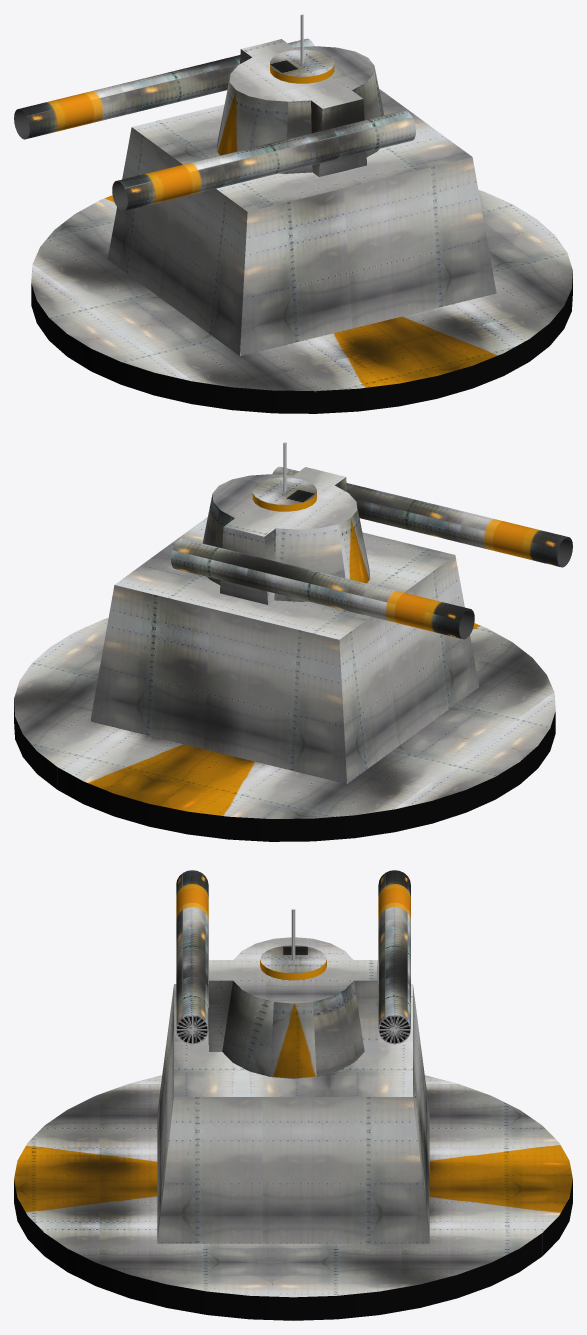
File: towerA_Orange.fbx
The picture shows the model from 3 angles, top to bottom: view 1: azimuth 30°, elevation 25°; view 2: azimuth 150°, elevation 25°; view 3: azimuth 270°, elevation 25°; orthographic projection. The views are drawn at different scales.
Visible parts, largest first — view 1: polySurface1; view 2: polySurface1; view 3: polySurface1.
Part boxes in pixels (x1,y1,x2,y2): polySurface1: [14, 14, 572, 413]; polySurface1: [14, 442, 572, 841]; polySurface1: [14, 870, 572, 1320].
Bounding box in the file's own units: 15.96 × 9.24 × 15.96.
1 material, 1 textured.
